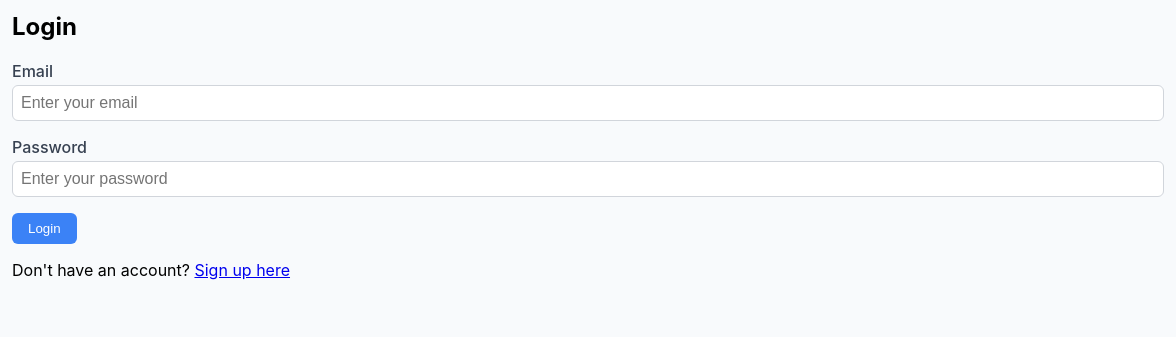
Test: LoginForm Component › validates required fields on submit
Click the button with test id "submit-button" at (44, 228), box [12,213,77,244]
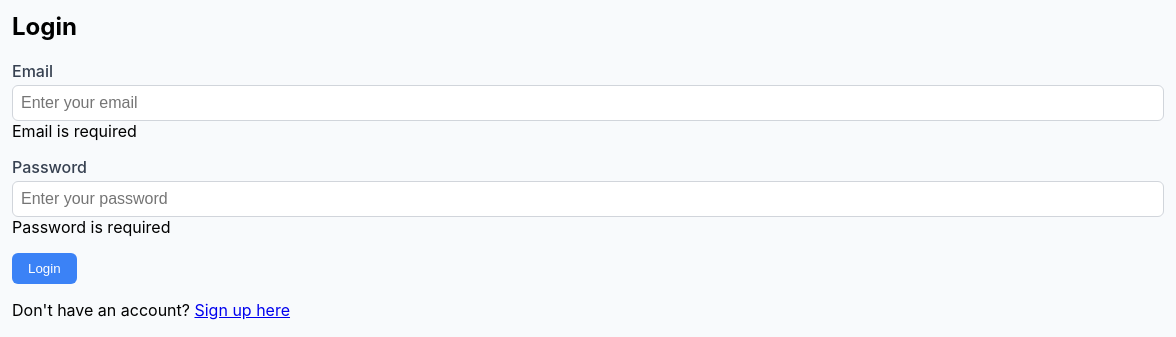
Check: the text with test id "email-error" reads "Email is required", box [12,121,137,141]
Check: the text with test id "password-error" reads "Password is required", box [12,217,170,237]
